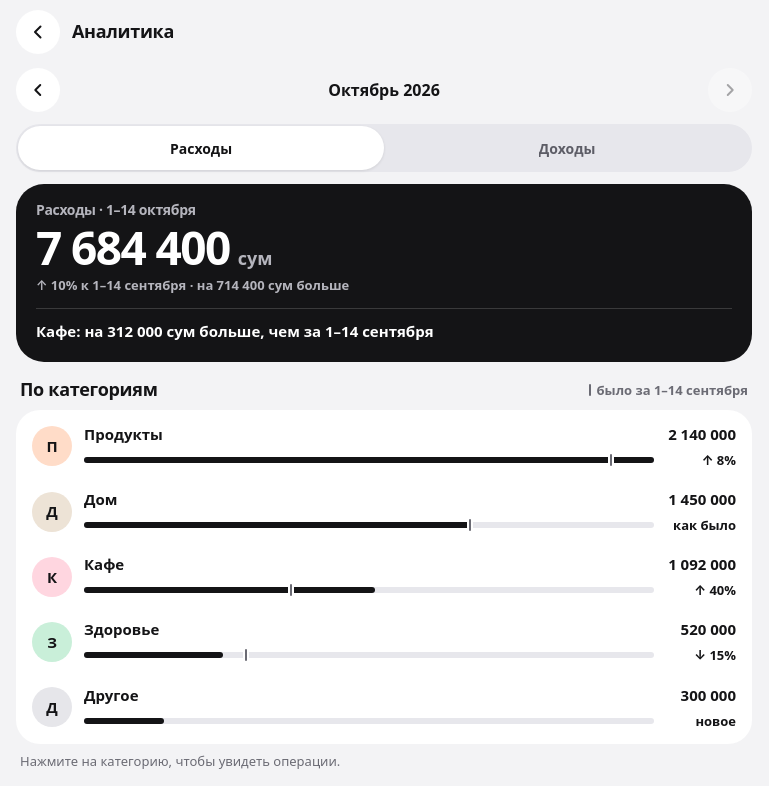
Test: Analytics: expenses of the current month (board «Аналитика · расходы») › «Доходы» shows the income of the same month
This screenshot has width=769, height=786.
Click the button "Доходы": (567, 148) [384,126,750,170]
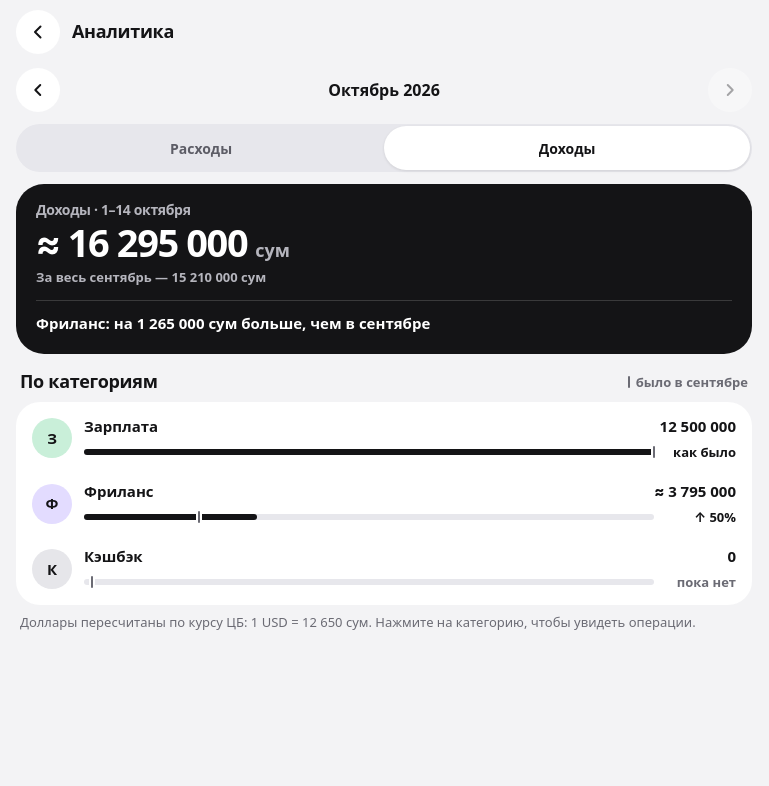
Check: the text "Доходы · 1–14 октября" is shown, box [36,200,191,219]
Check: the text "≈ 16 295 000" is shown, box [36,223,247,263]
Check: the text "За весь сентябрь — 15 210 000 сум" is shown, box [36,268,266,286]
